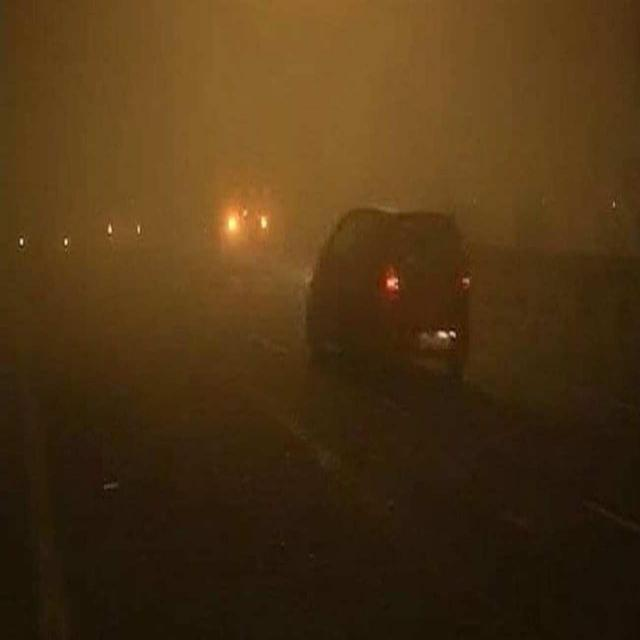Car: (300, 186, 482, 372), (219, 156, 284, 254)
